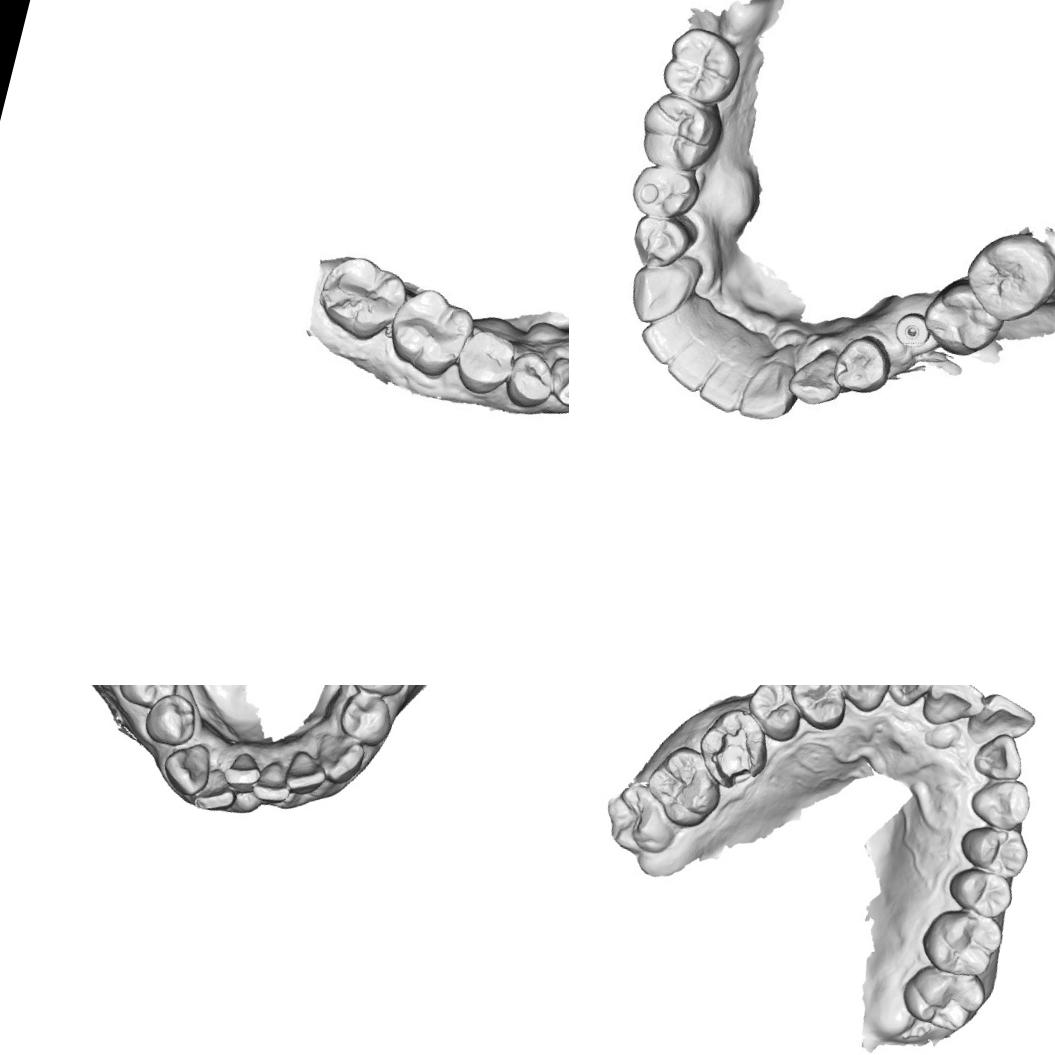canine: (619, 245, 705, 333), (965, 769, 1036, 835), (786, 344, 848, 410), (158, 736, 216, 800), (309, 728, 368, 790), (831, 685, 895, 716), (543, 353, 569, 414)
implant: (886, 307, 936, 357)
incisor: (730, 348, 802, 429), (961, 688, 1040, 756), (695, 337, 758, 417), (660, 326, 718, 392), (636, 306, 696, 369), (968, 726, 1030, 786), (917, 685, 991, 735), (190, 763, 242, 817), (281, 747, 330, 799), (248, 756, 296, 808), (219, 748, 266, 796), (879, 685, 939, 712)
inlay: (701, 718, 766, 792)
molar: (310, 241, 416, 347), (955, 221, 1055, 331), (630, 88, 733, 184), (914, 269, 1009, 368), (382, 280, 476, 380), (637, 738, 730, 834), (594, 770, 687, 864), (658, 22, 752, 114), (894, 956, 990, 1038), (914, 900, 1006, 984)
premolar: (618, 203, 702, 273), (953, 816, 1035, 882), (827, 327, 897, 403), (623, 158, 700, 226), (451, 323, 520, 397), (942, 862, 1016, 922), (739, 685, 809, 745), (333, 686, 397, 750), (501, 346, 561, 412), (140, 688, 202, 751), (782, 685, 854, 735), (114, 685, 183, 713), (343, 685, 412, 700)
